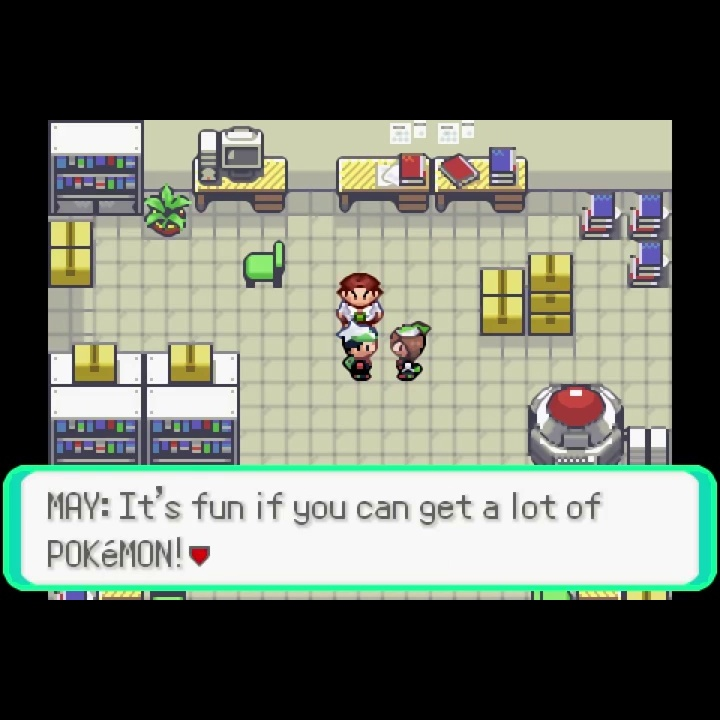npc: (334, 318, 380, 384), (387, 319, 433, 384), (333, 273, 387, 327)
